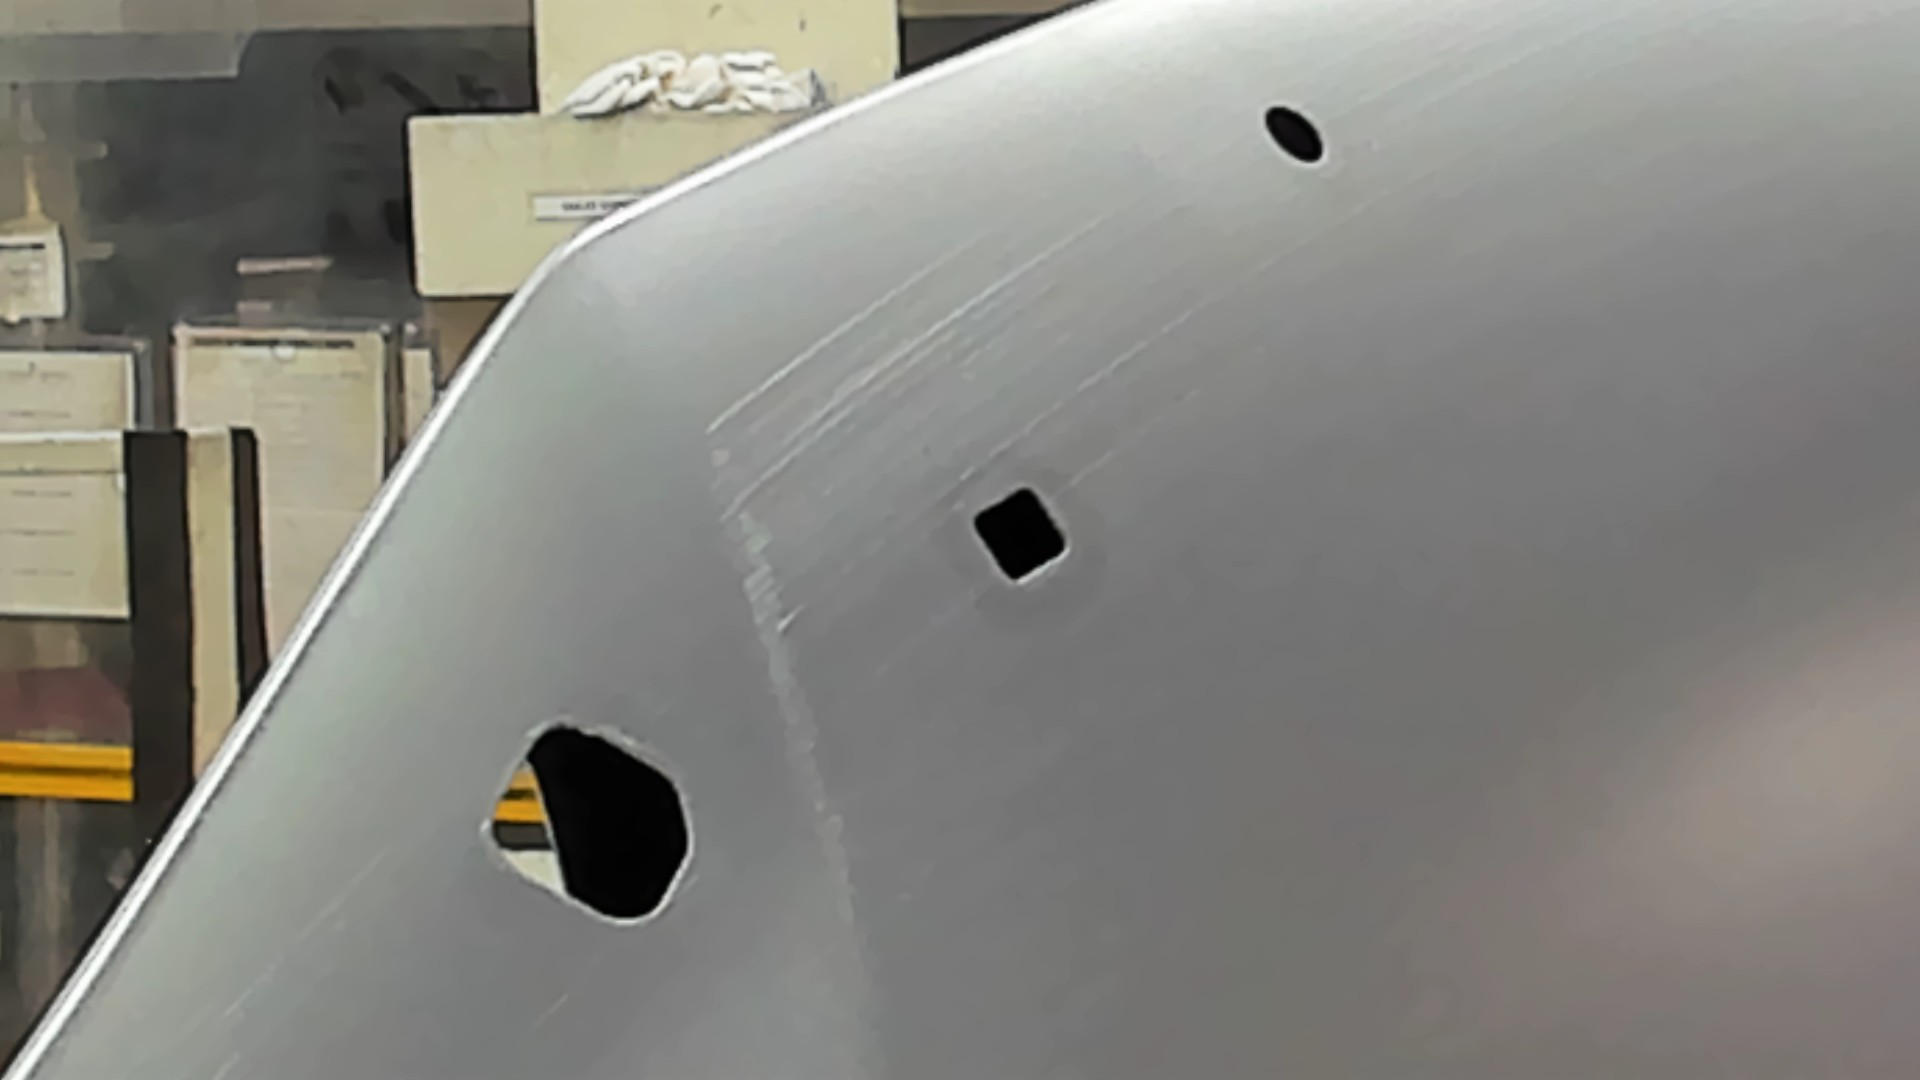capo: (1077, 175, 1920, 1080)
chico: (1257, 96, 1329, 167)
grande: (480, 715, 704, 932)
mediano: (964, 477, 1075, 593)
